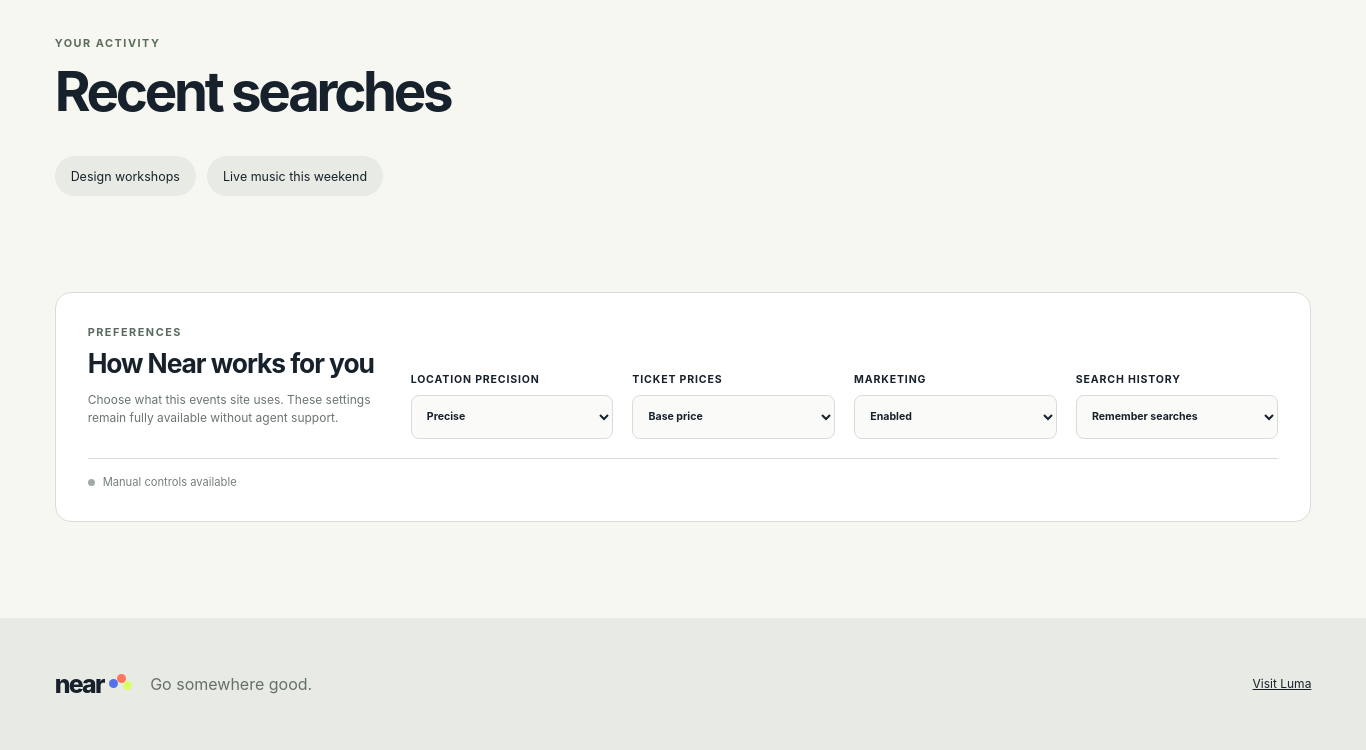
Test: Near human experience › works manually without WebMCP
This screenshot has width=1366, height=750.
(page scrolled)
Check: the text "Manual controls available" is shown, box [88,458,1278,489]
Select "All-in price" in the dropdown labelled "Ticket prices" at (734, 417), box [632,395,835,439]
(page scrolled)
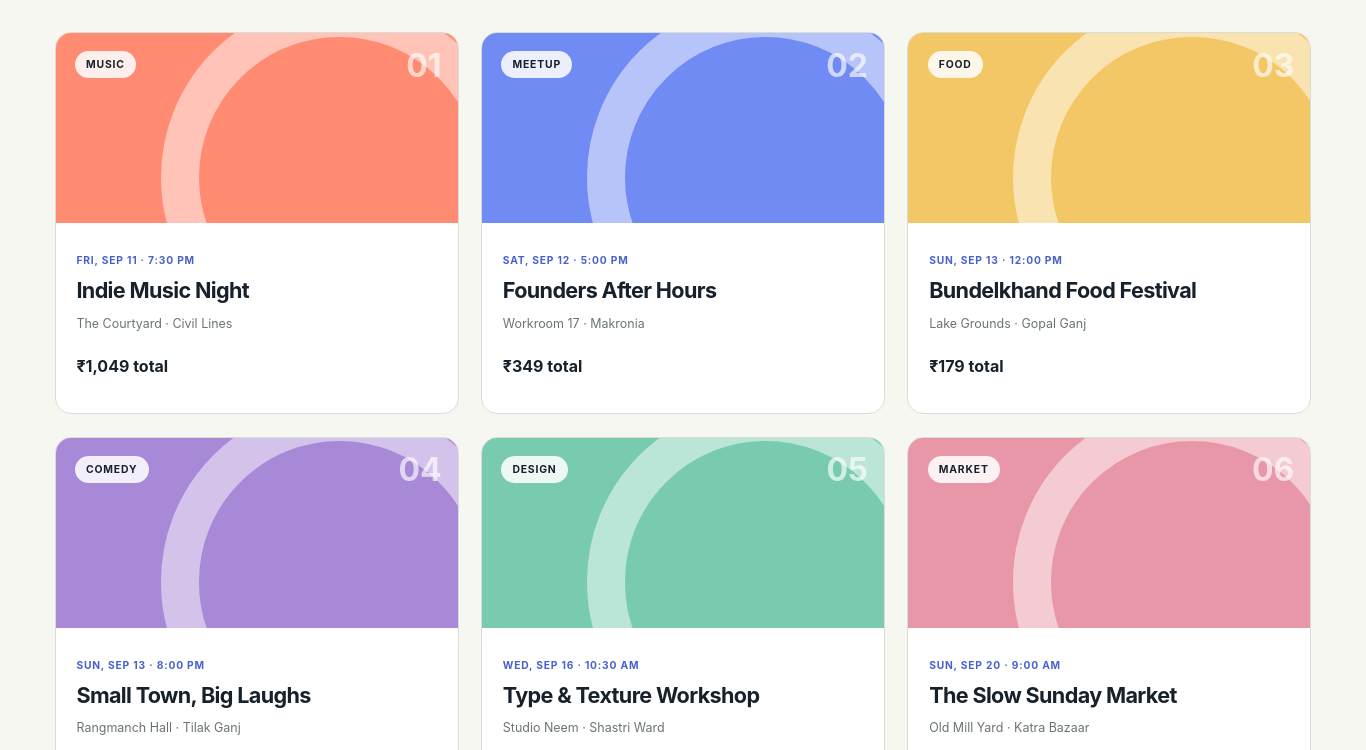
Check: the text "₹1,049 total" is shown, box [76,356,168,376]
